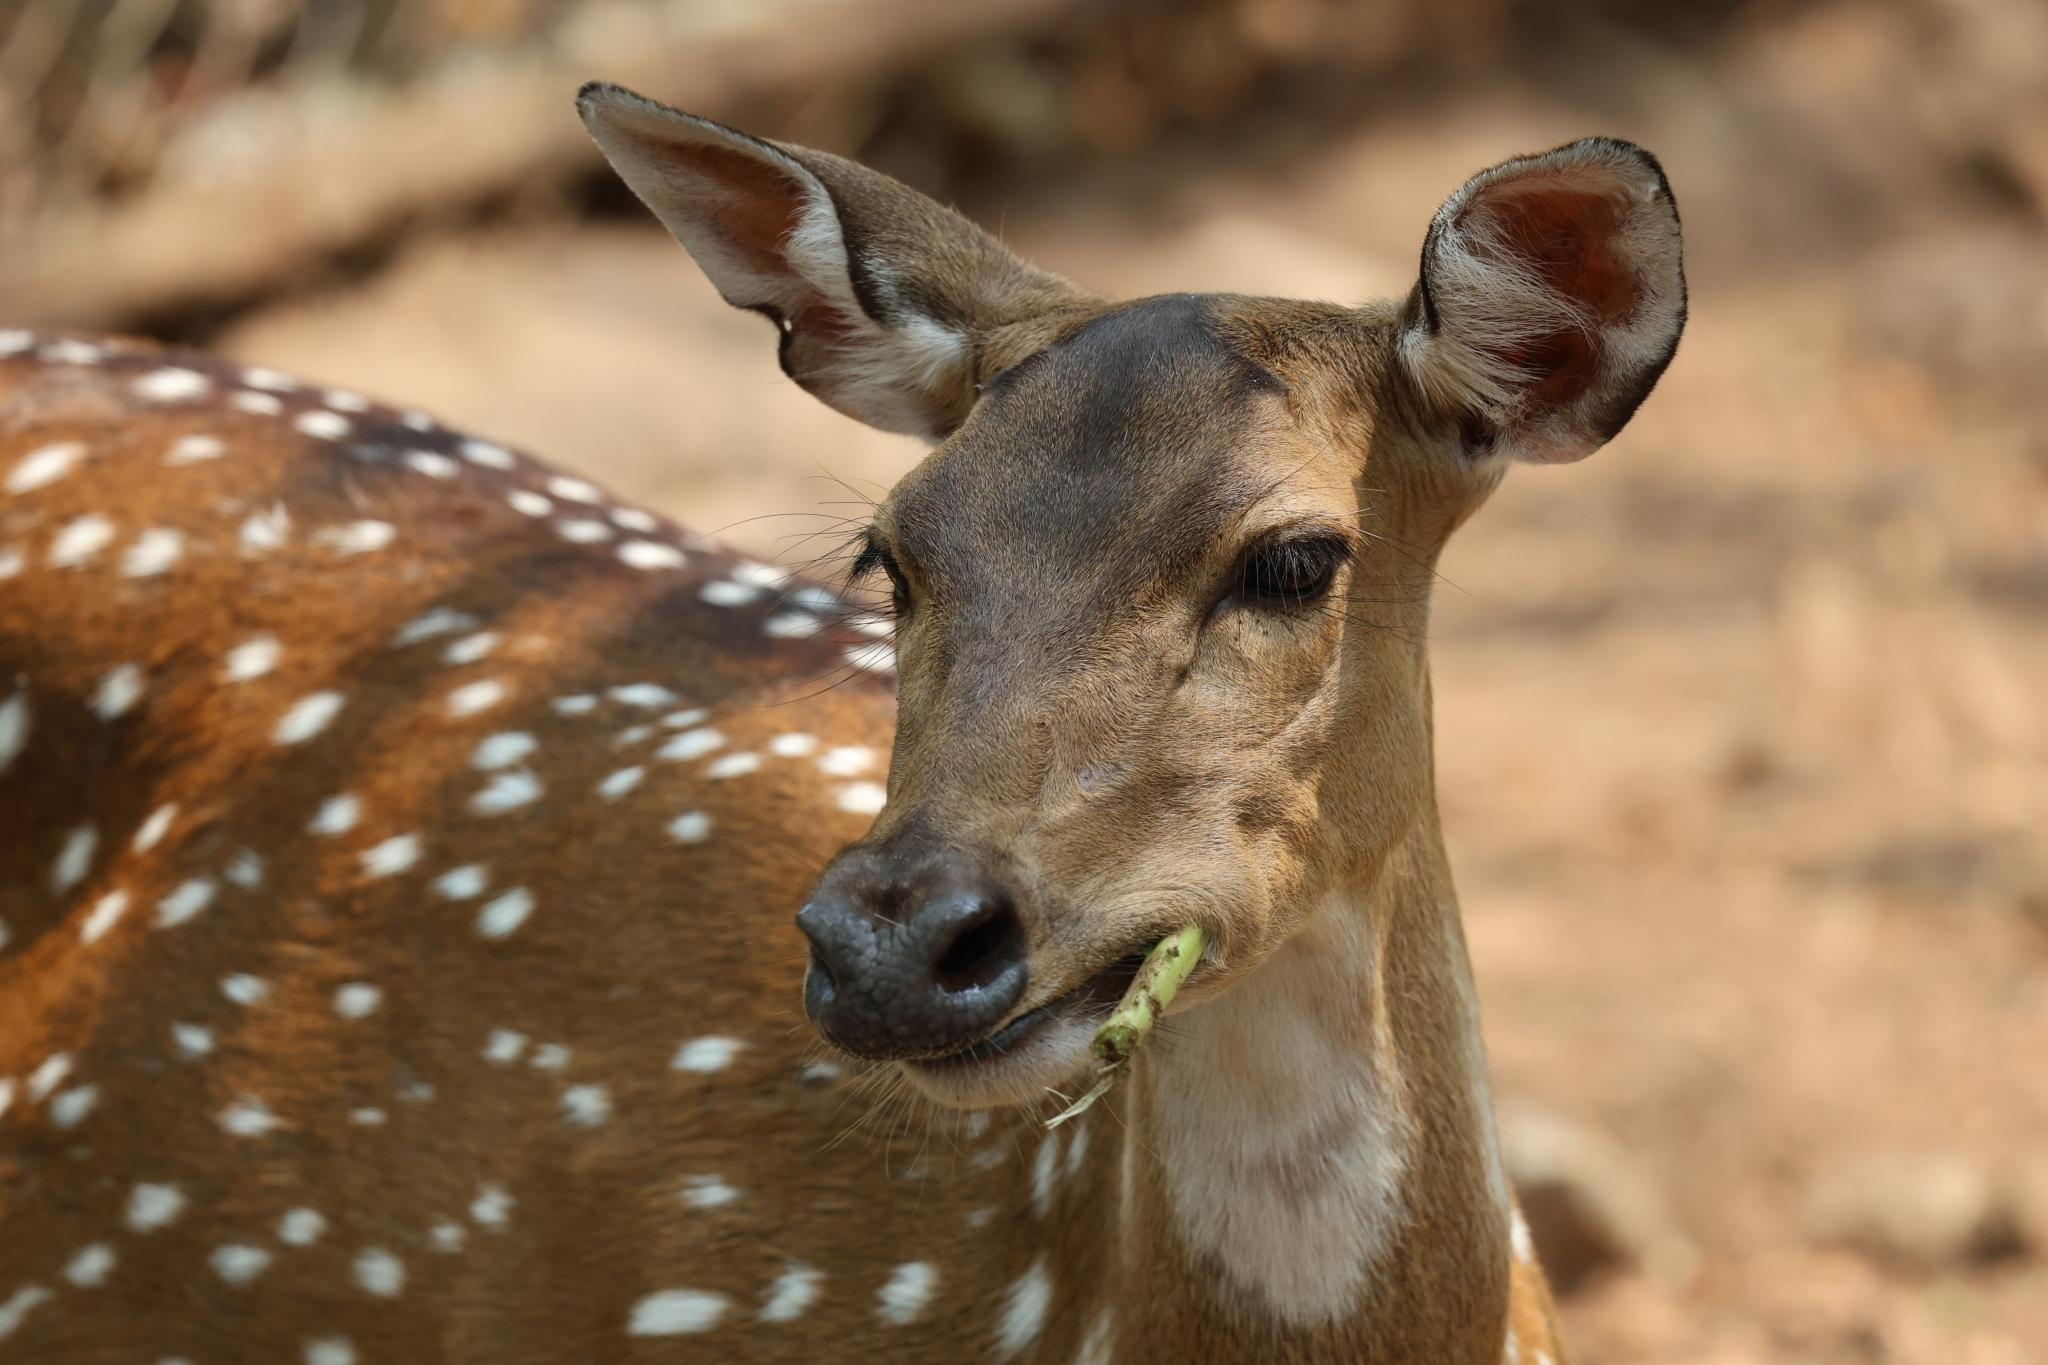Deer: (0, 84, 1686, 1360)
